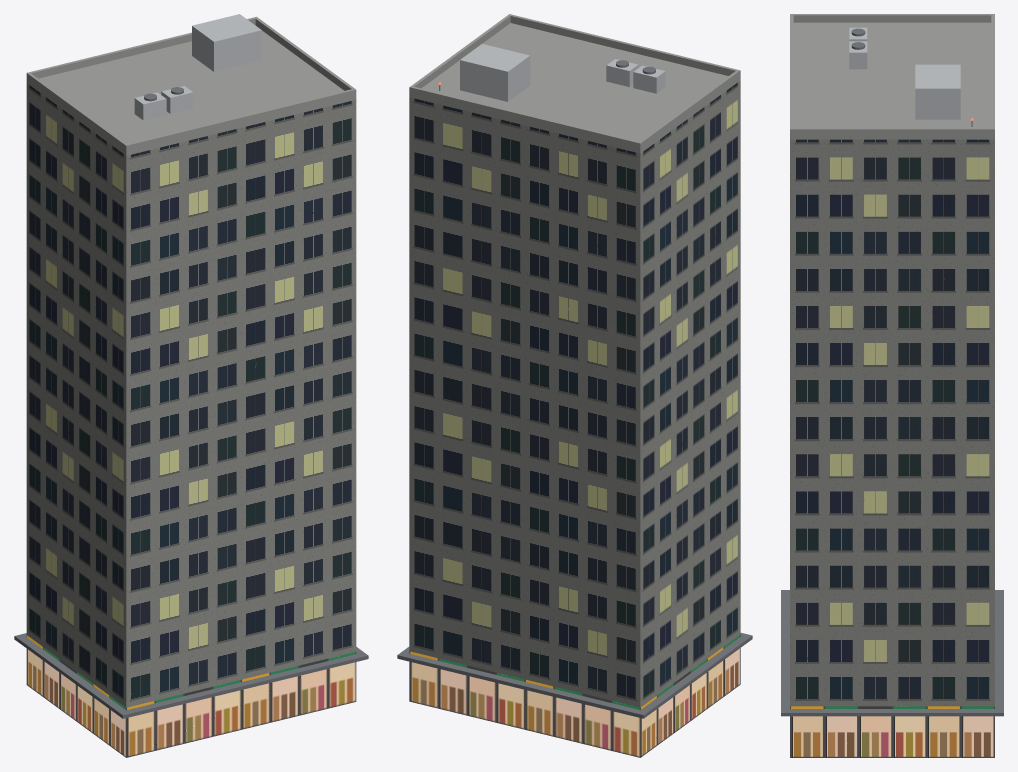
Rendered from office_mid.glb.
3 views of the same model, side by side, from view 1: azimuth 30°, elevation 25°; view 2: azimuth 150°, elevation 25°; view 3: azimuth 270°, elevation 25° (orthographic). The views are drawn at different scales.
Parts seen in each view (by area): view 1: office_mid; view 2: office_mid; view 3: office_mid.
Boxes of the visible parts, x1,y1,x2,y2 form: office_mid: (14, 14, 368, 757); office_mid: (397, 14, 752, 757); office_mid: (781, 14, 1003, 757).
Bounding box in the file's own units: 25.6 × 63.3 × 19.6.
Materials: 6 (2 with a texture image).
